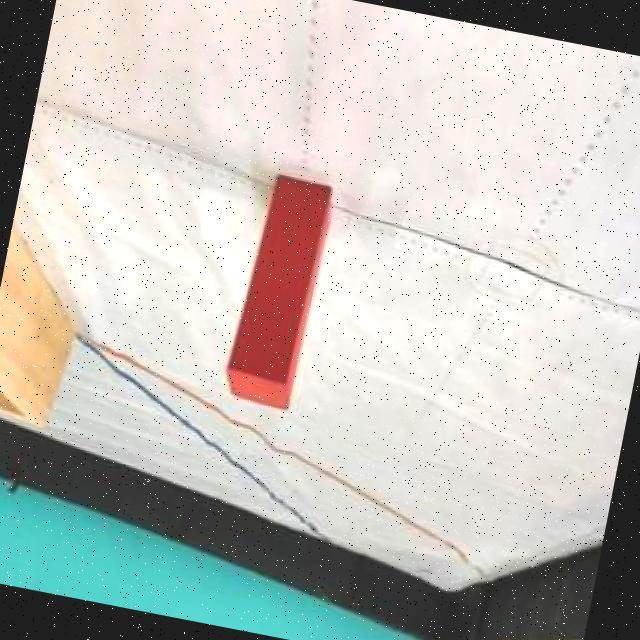redbox: (218, 170, 334, 412)
